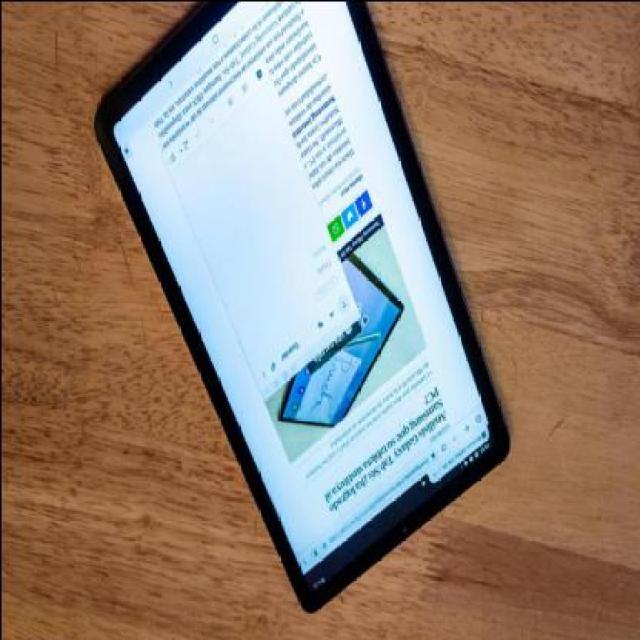tablet: (55, 0, 534, 594)
